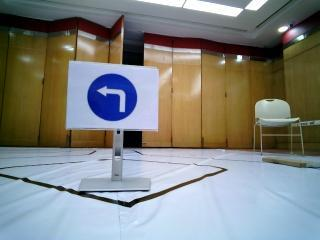left: (76, 67, 158, 121)
